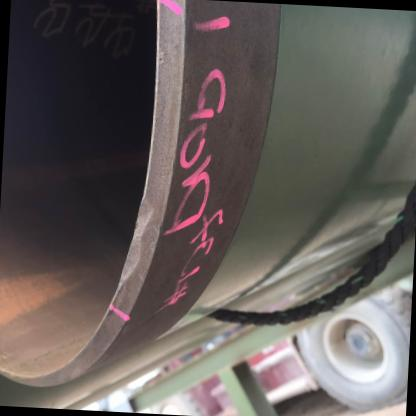Bevel: (102, 190, 152, 301)
